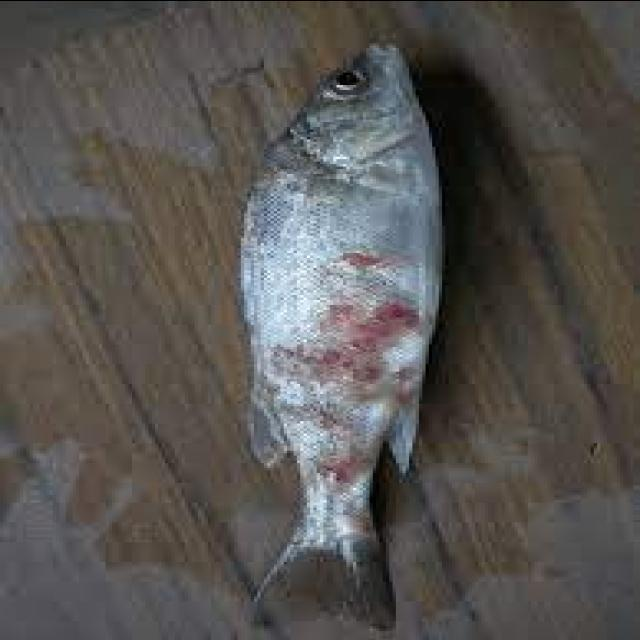EUS Disease: (240, 45, 492, 632), (247, 209, 447, 552)
